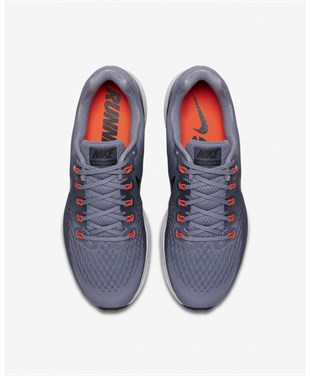nike: (191, 94, 210, 136)
